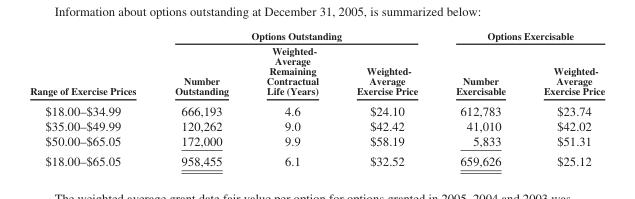table: (29, 29, 604, 167)
table column: (29, 29, 154, 167), (336, 29, 436, 167), (154, 29, 246, 167), (246, 29, 336, 167), (436, 29, 523, 167), (523, 29, 604, 167)
table column header: (29, 29, 604, 99)
table row: (29, 42, 604, 99), (29, 99, 604, 117), (29, 133, 604, 150), (29, 150, 604, 167), (29, 117, 604, 133), (29, 29, 604, 42)
table spanning cell: (29, 29, 154, 99), (154, 29, 436, 42), (436, 29, 604, 42)
